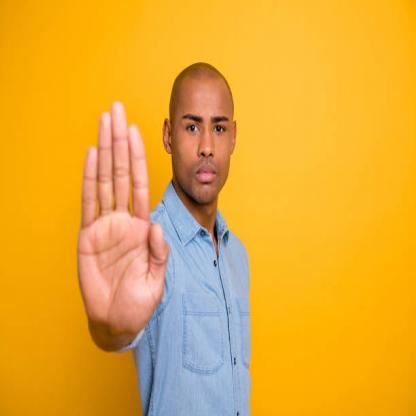stop: (75, 96, 172, 336)
